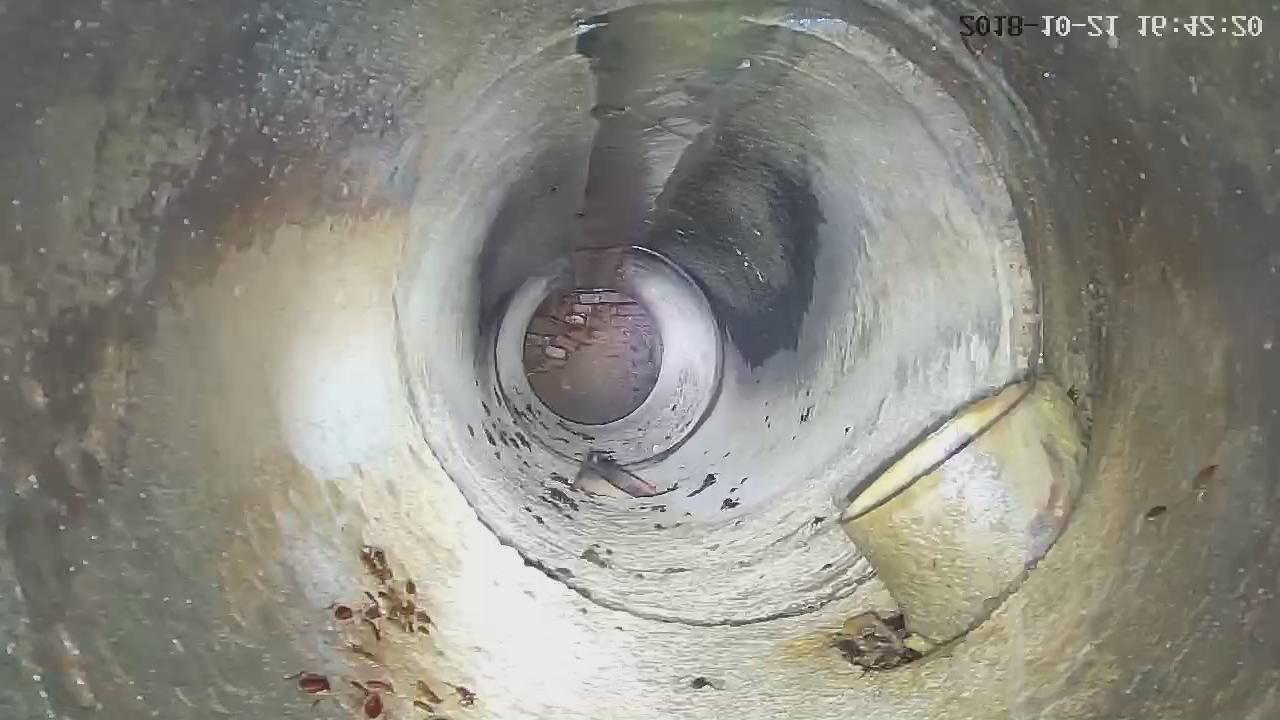CKTJ: (766, 22, 1042, 386)
CQBG: (523, 288, 662, 426)
ZGAJ: (842, 380, 1084, 644), (575, 454, 658, 497)
